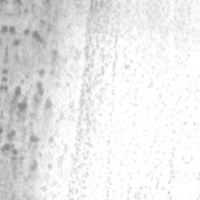pitted_surface: (0, 0, 61, 179), (70, 3, 123, 191), (121, 7, 196, 82)
